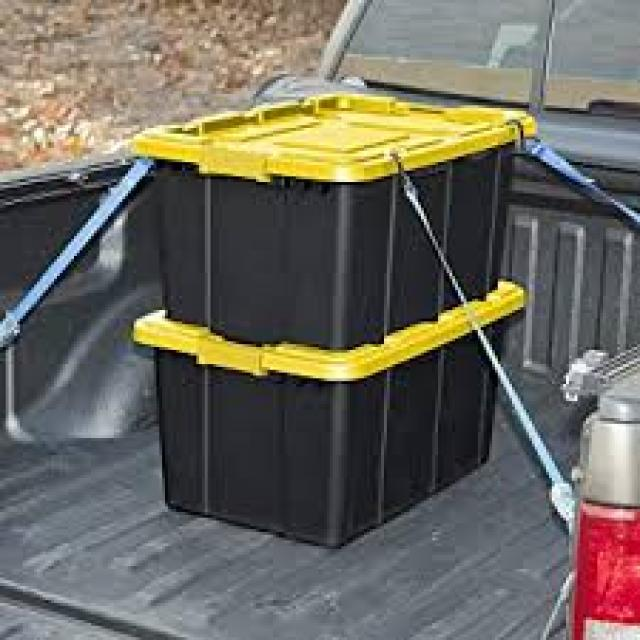basket: (108, 82, 539, 558)
